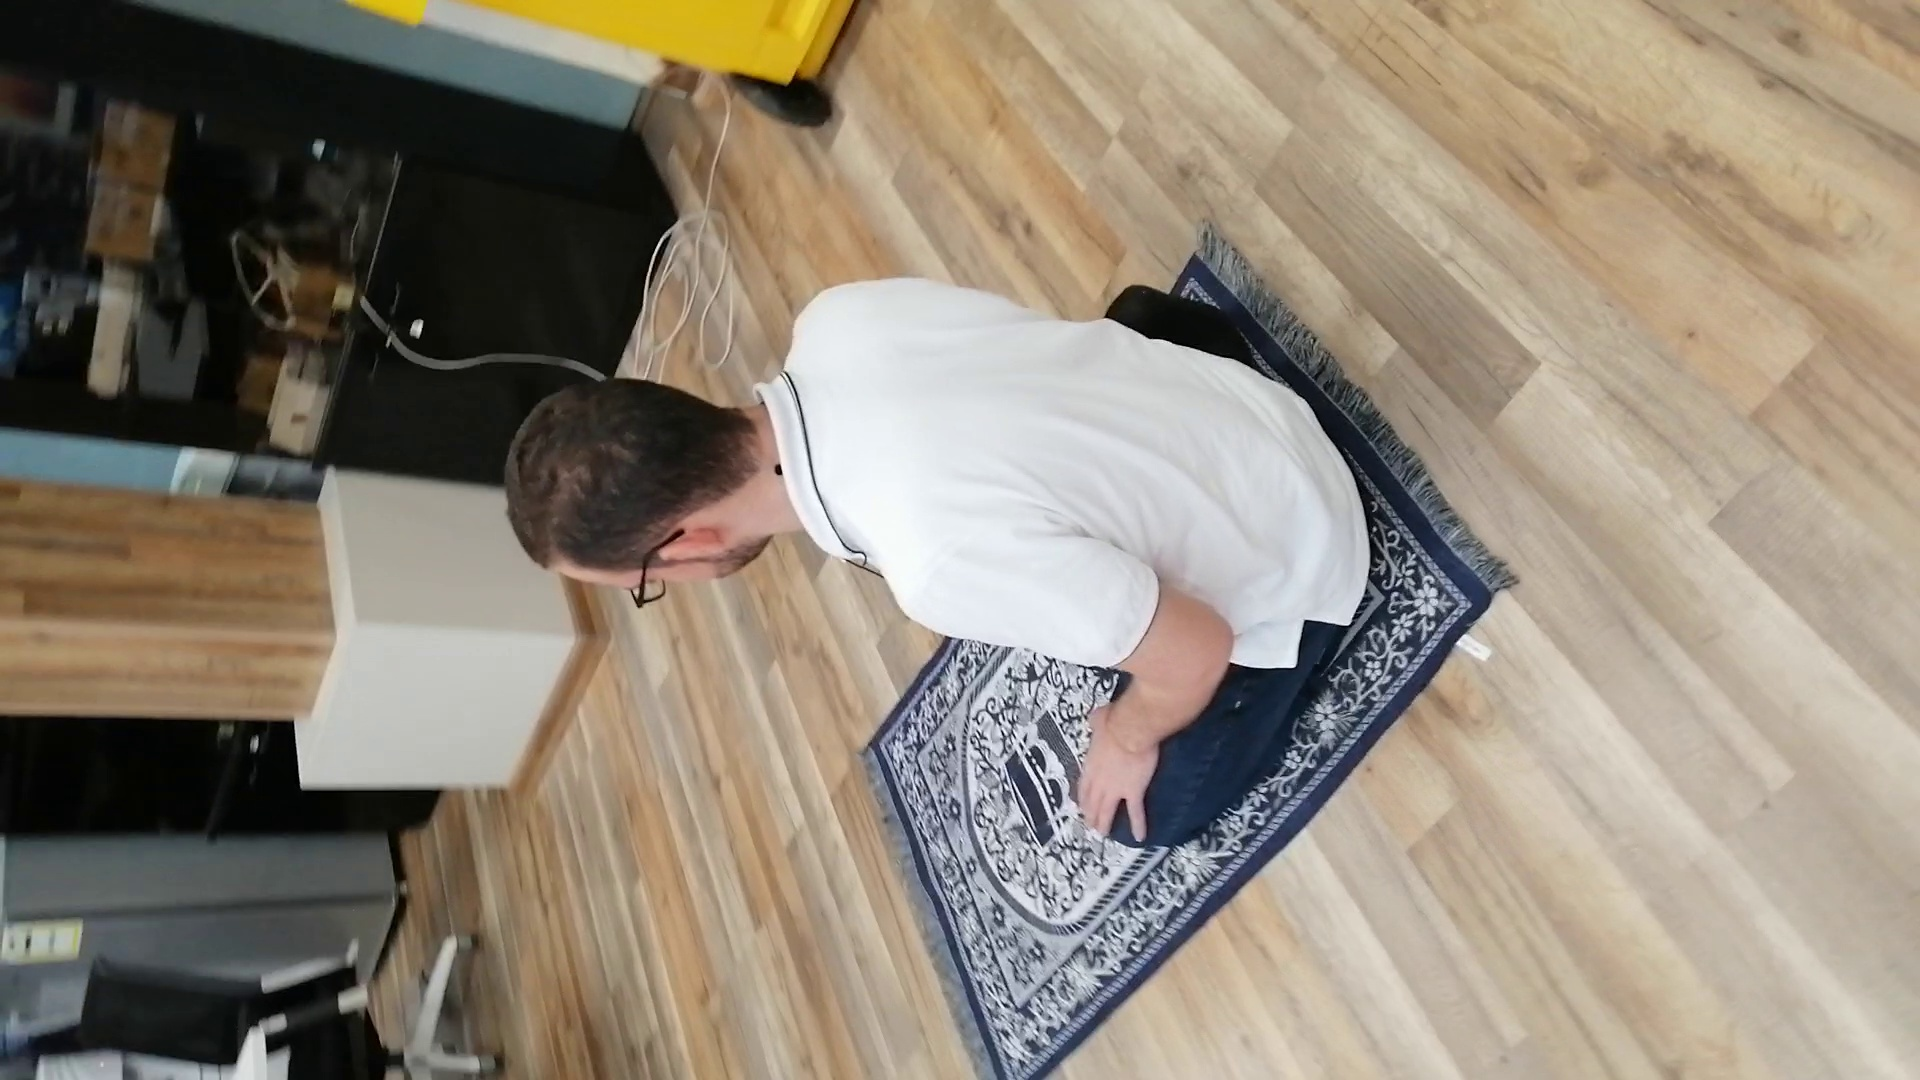sitting: (489, 262, 1391, 855)
